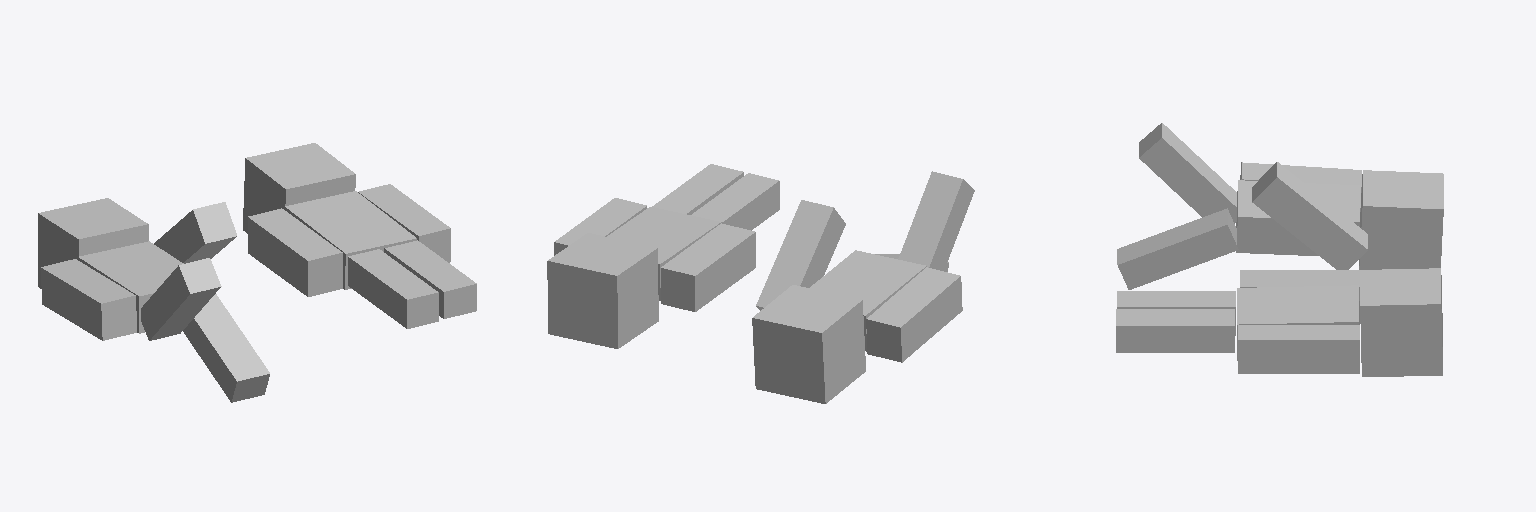
File: steve_000013.obj
3 views of the same model, side by side, from view 1: azimuth 30°, elevation 25°; view 2: azimuth 150°, elevation 25°; view 3: azimuth 270°, elevation 25° (orthographic).
Parts seen in each view (by area): view 1: Cube.001_Cube.002, Cube_Cube.001; view 2: Cube_Cube.001, Cube.001_Cube.002; view 3: Cube_Cube.001, Cube.001_Cube.002.
Boxes of the visible parts, x1,y1,x2,y2 form: Cube.001_Cube.002: [243, 143, 476, 328]; Cube_Cube.001: [38, 198, 269, 402]; Cube_Cube.001: [752, 171, 974, 403]; Cube.001_Cube.002: [547, 164, 779, 348]; Cube_Cube.001: [1117, 123, 1443, 289]; Cube.001_Cube.002: [1116, 268, 1442, 376].
Size of the model in its own units: 6.55 by 2.42 by 5.35.